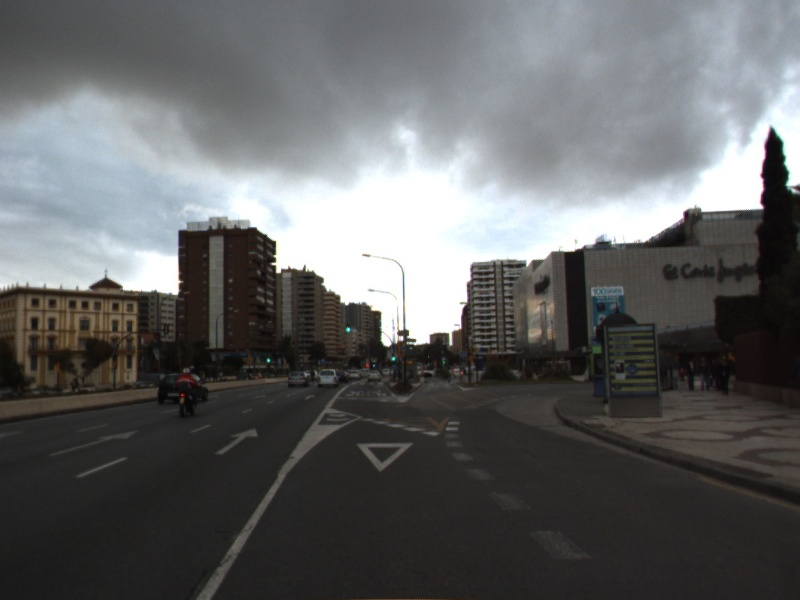STRAIGHT: (46, 427, 144, 459), (212, 426, 260, 457)
